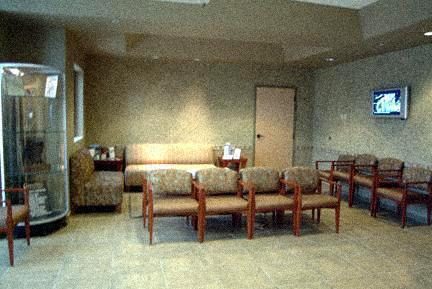Puerta: (257, 85, 293, 166)
